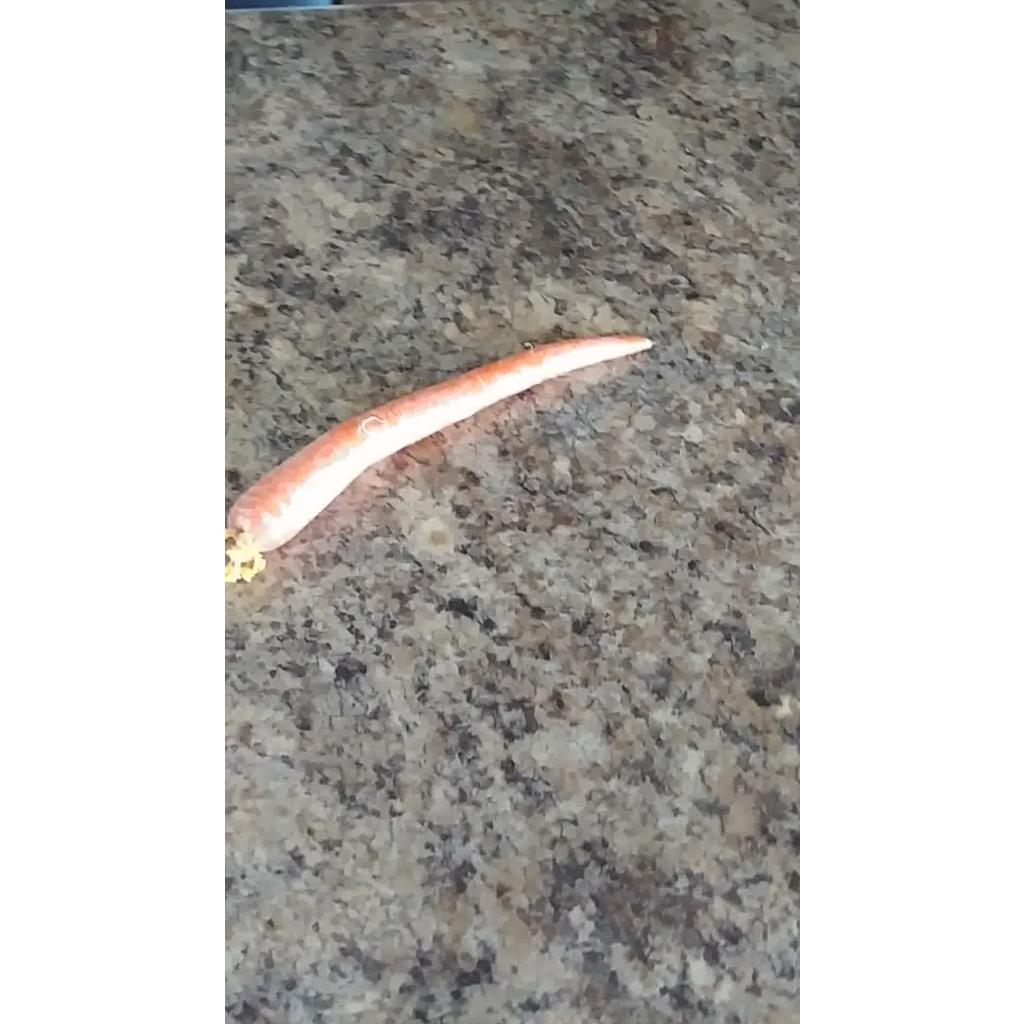carrot: (224, 336, 652, 582)
